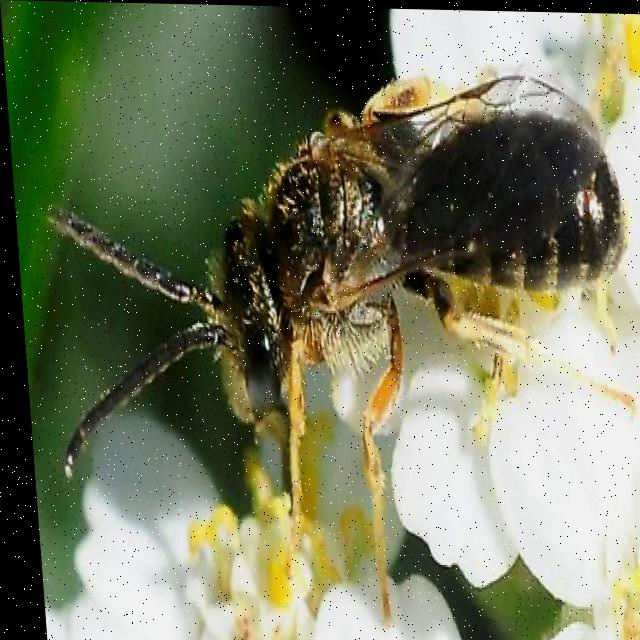Seladonia: (18, 41, 640, 599)
